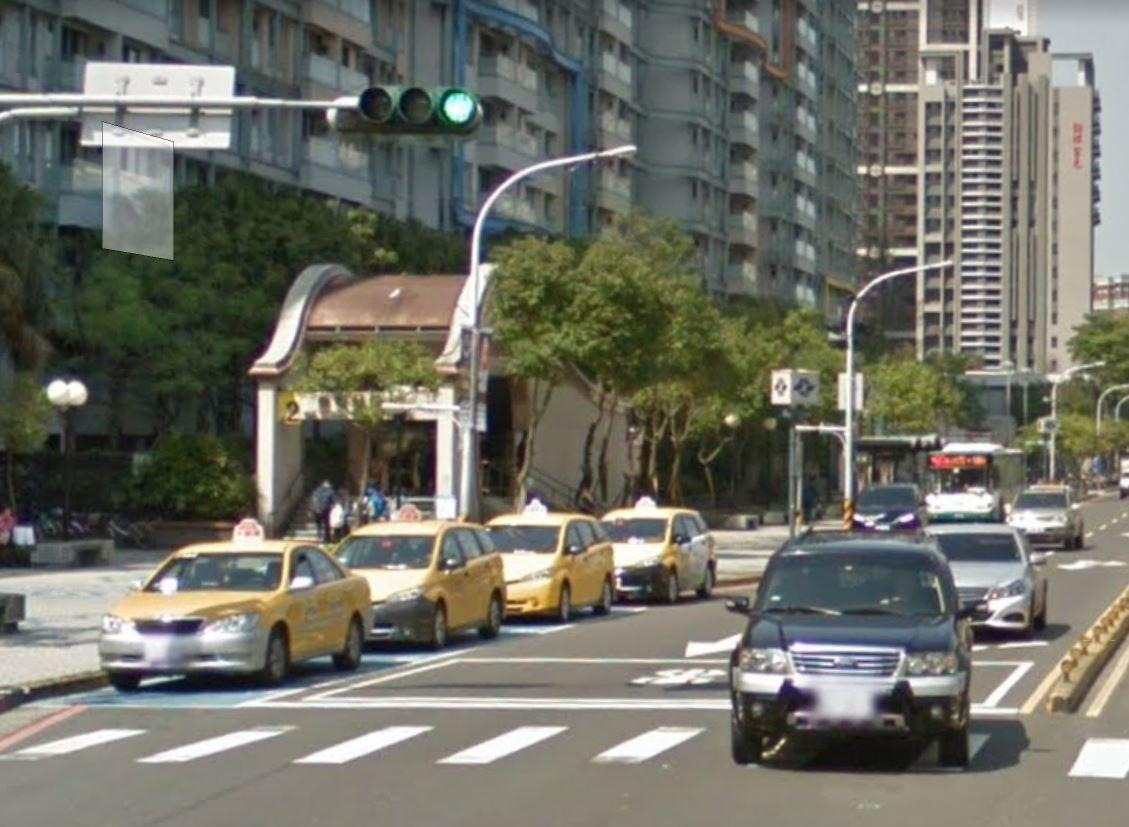green_traffic_light: (358, 77, 481, 131)
